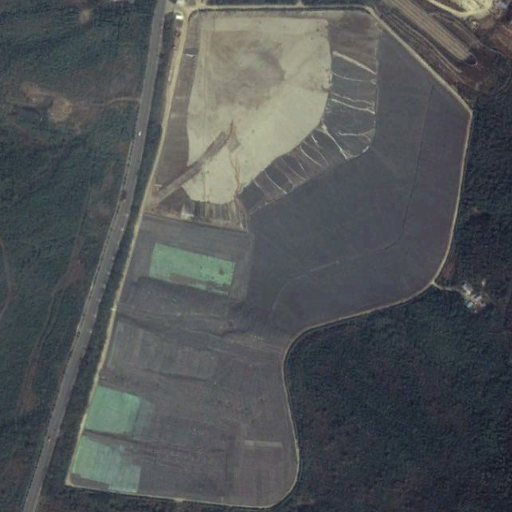lf: (60, 7, 475, 507)
